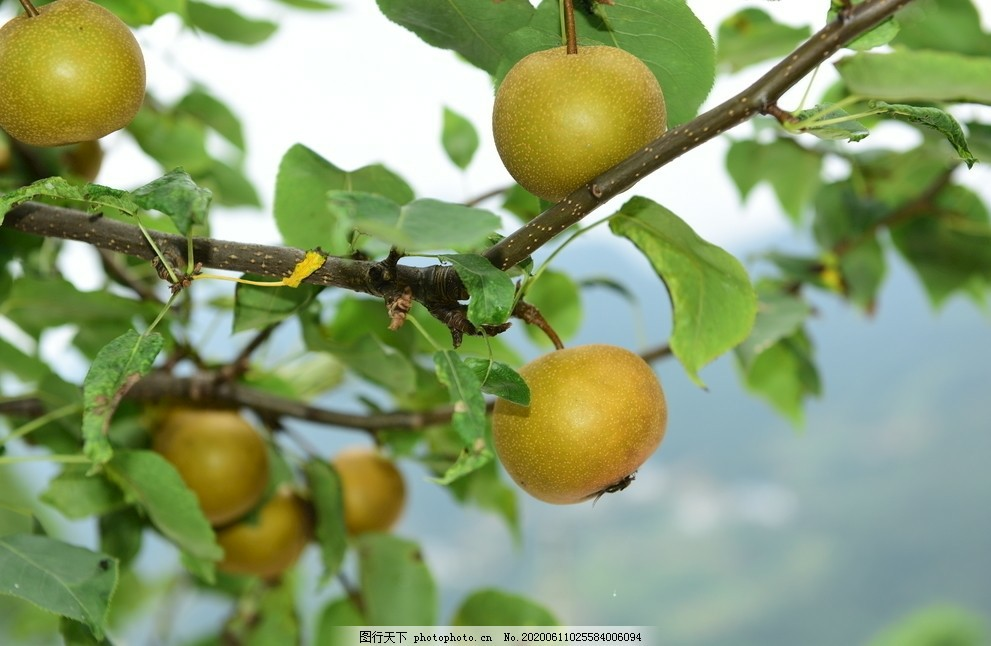pear: (490, 344, 669, 504), (493, 43, 666, 200), (1, 1, 146, 148), (153, 411, 269, 528), (315, 448, 411, 537), (210, 490, 312, 572)
